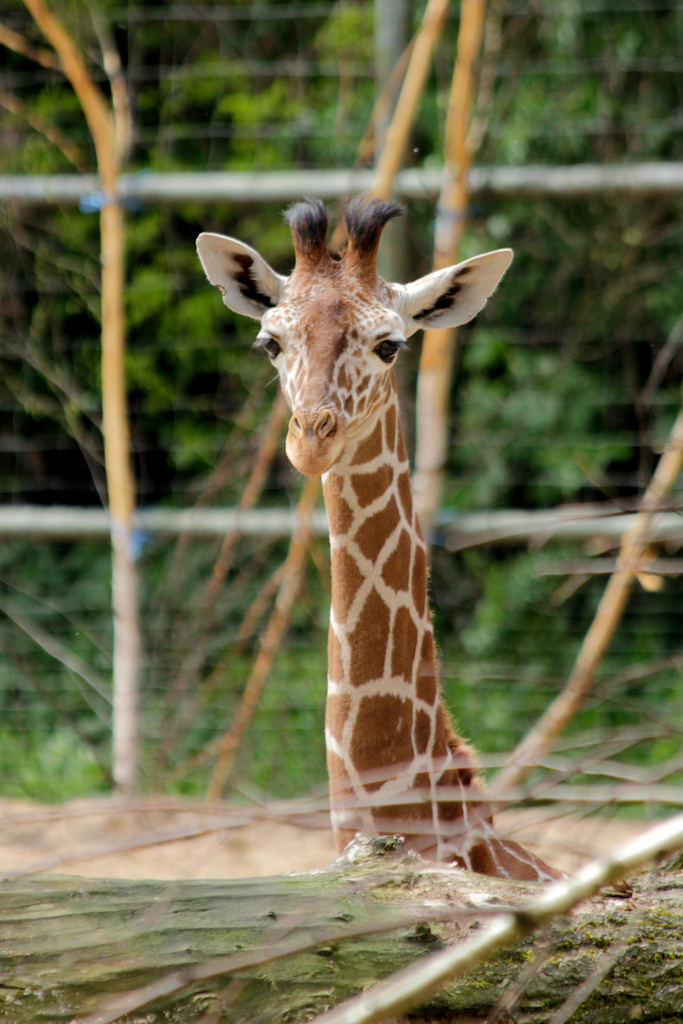giraffe: (168, 143, 616, 924)
